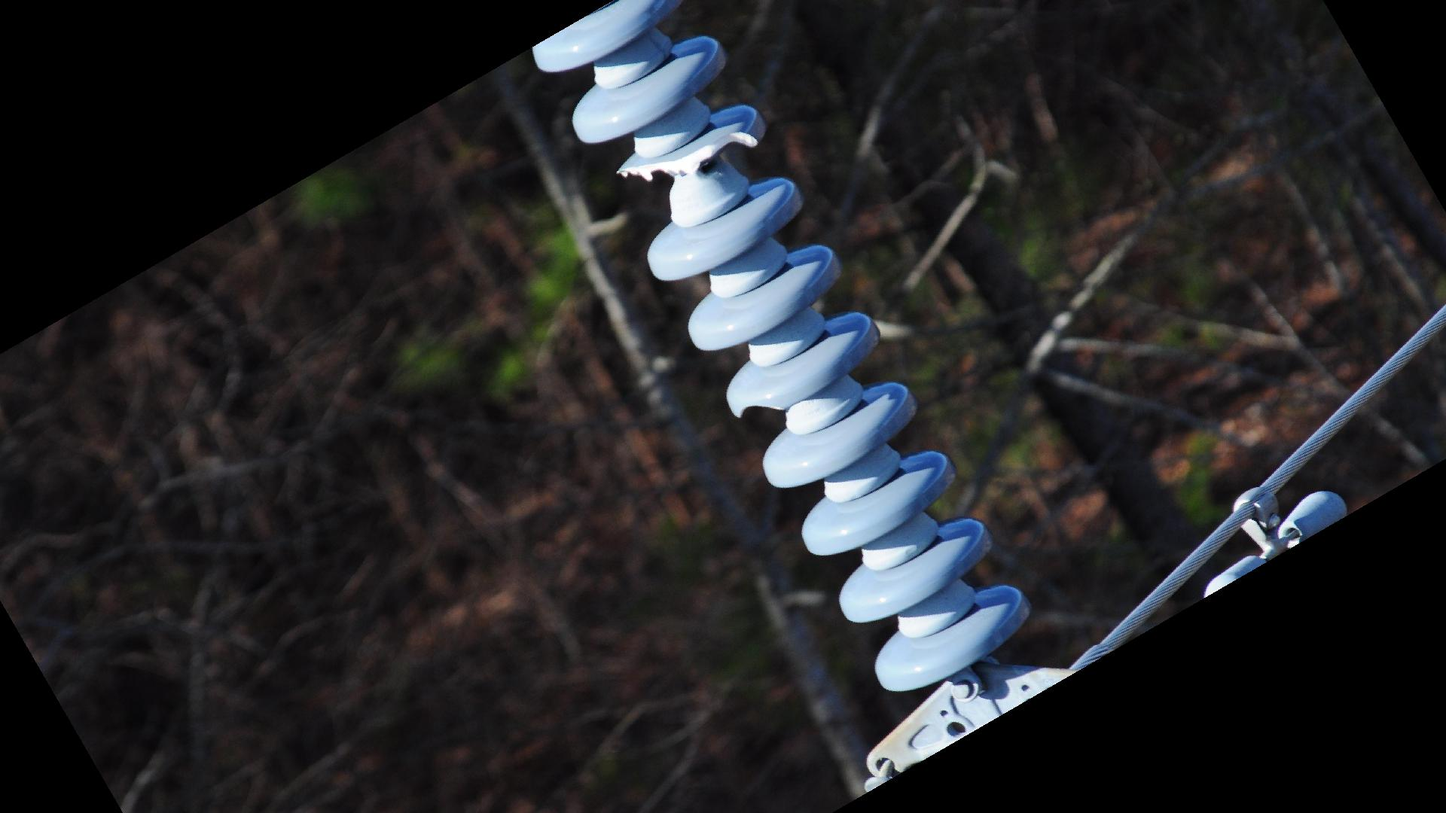insulator: (530, 1, 1040, 701)
insulator_breakage: (613, 124, 767, 185), (731, 398, 795, 422)
